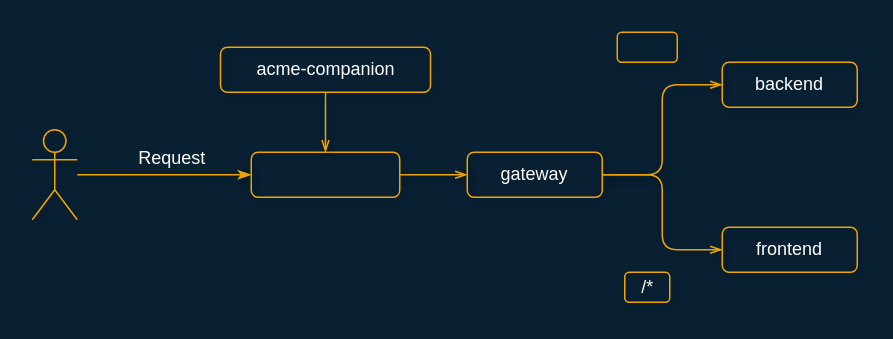
This 893x339 diagram has some shape labels left out. The shapes that lost their labels are listed below. From the top down, each one's centre as x and y in pixels, then its label:
At pixel 648 49: "/api".
At pixel 326 176: "nginx-proxy".
